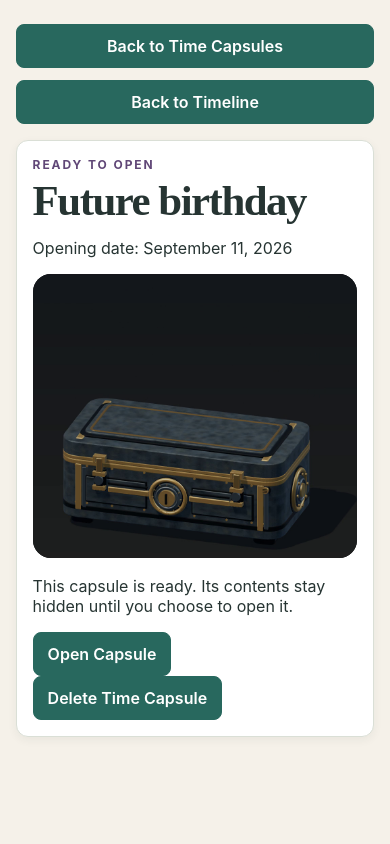
Scenario: an opening write failure keeps private content hidden and offers a retry
Step 1. Click the button "Open Capsule" → x=102, y=654, box [33,632,171,676]
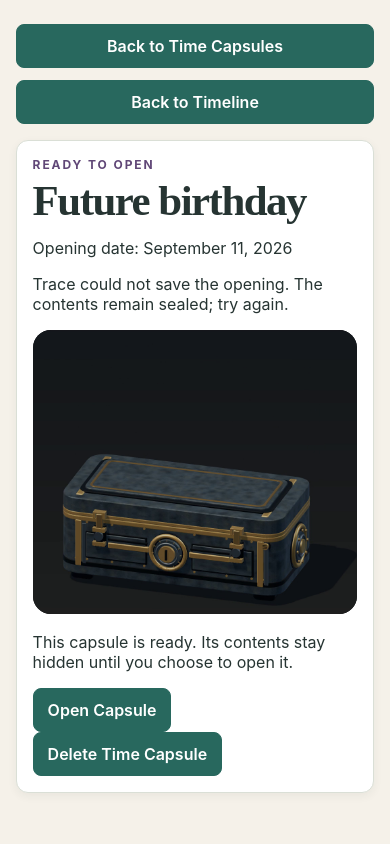
Expected: the button "Open Capsule" is enabled, [33,688,171,732]
Now the message shows "contents remain sealed", box [33,274,323,314]
